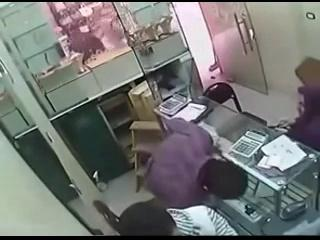Normal: (94, 118, 248, 236), (203, 82, 243, 113), (230, 128, 268, 158), (280, 200, 308, 220)
